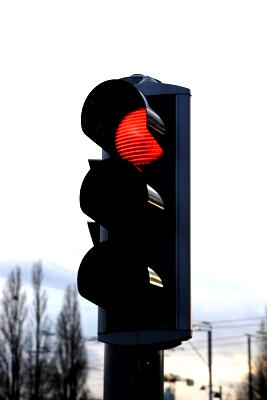International Road Signal Light: (80, 77, 192, 349)
